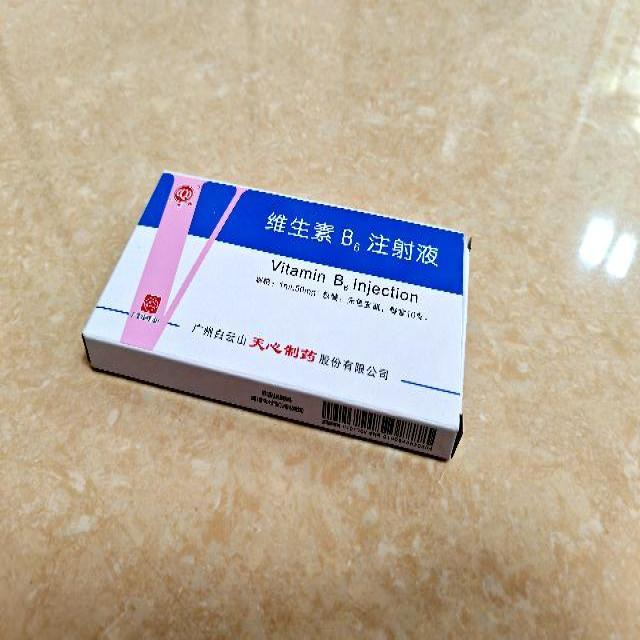box: (84, 168, 470, 462)
